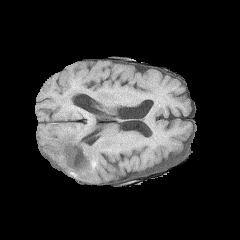glioma: (39, 116, 106, 180)
